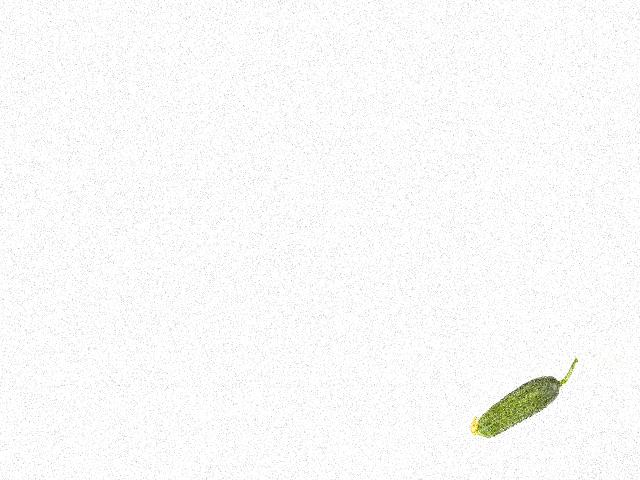cucumber: (468, 358, 577, 438)
